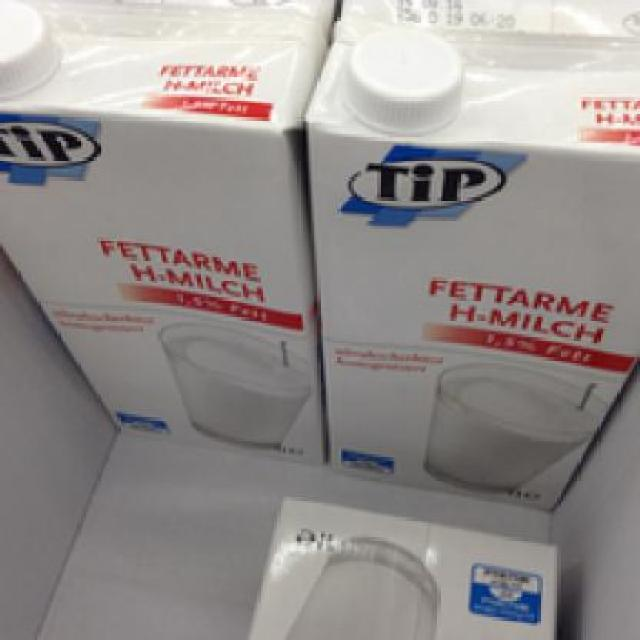Milk: (305, 0, 638, 506), (0, 0, 332, 466)
